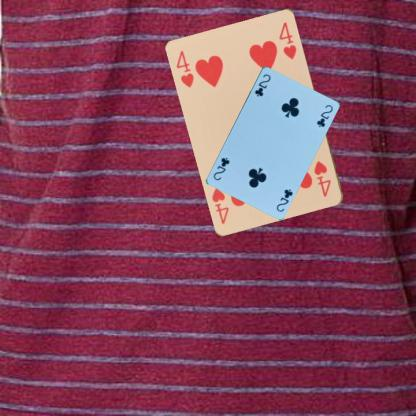2c: (252, 71, 271, 98), (274, 186, 293, 213)
4h: (174, 48, 196, 90), (311, 158, 333, 198)
